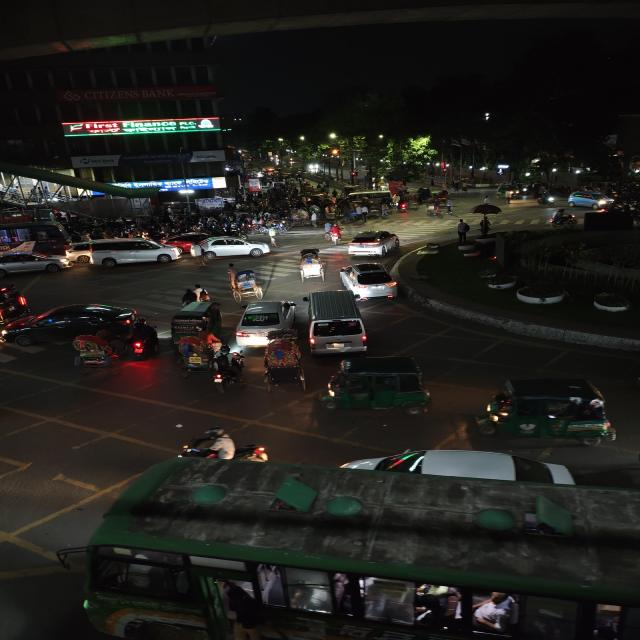bus: (78, 473, 638, 639), (0, 222, 69, 253)
car: (2, 301, 155, 339), (304, 288, 371, 356), (70, 237, 179, 271), (233, 297, 298, 345), (166, 232, 275, 260), (338, 261, 400, 299), (0, 246, 71, 275), (345, 228, 403, 258), (566, 188, 615, 208)
cng: (479, 374, 621, 446), (320, 354, 436, 416), (169, 302, 221, 338), (494, 183, 521, 199)
motorcycle: (208, 349, 246, 393), (125, 321, 160, 360), (0, 280, 30, 324), (329, 223, 344, 245), (424, 200, 442, 218)
pedestrian: (454, 218, 472, 244), (477, 216, 492, 236), (308, 207, 321, 228)
rickshaw: (260, 339, 309, 392), (67, 332, 121, 374), (170, 337, 220, 376), (224, 264, 268, 300), (294, 248, 329, 282)
